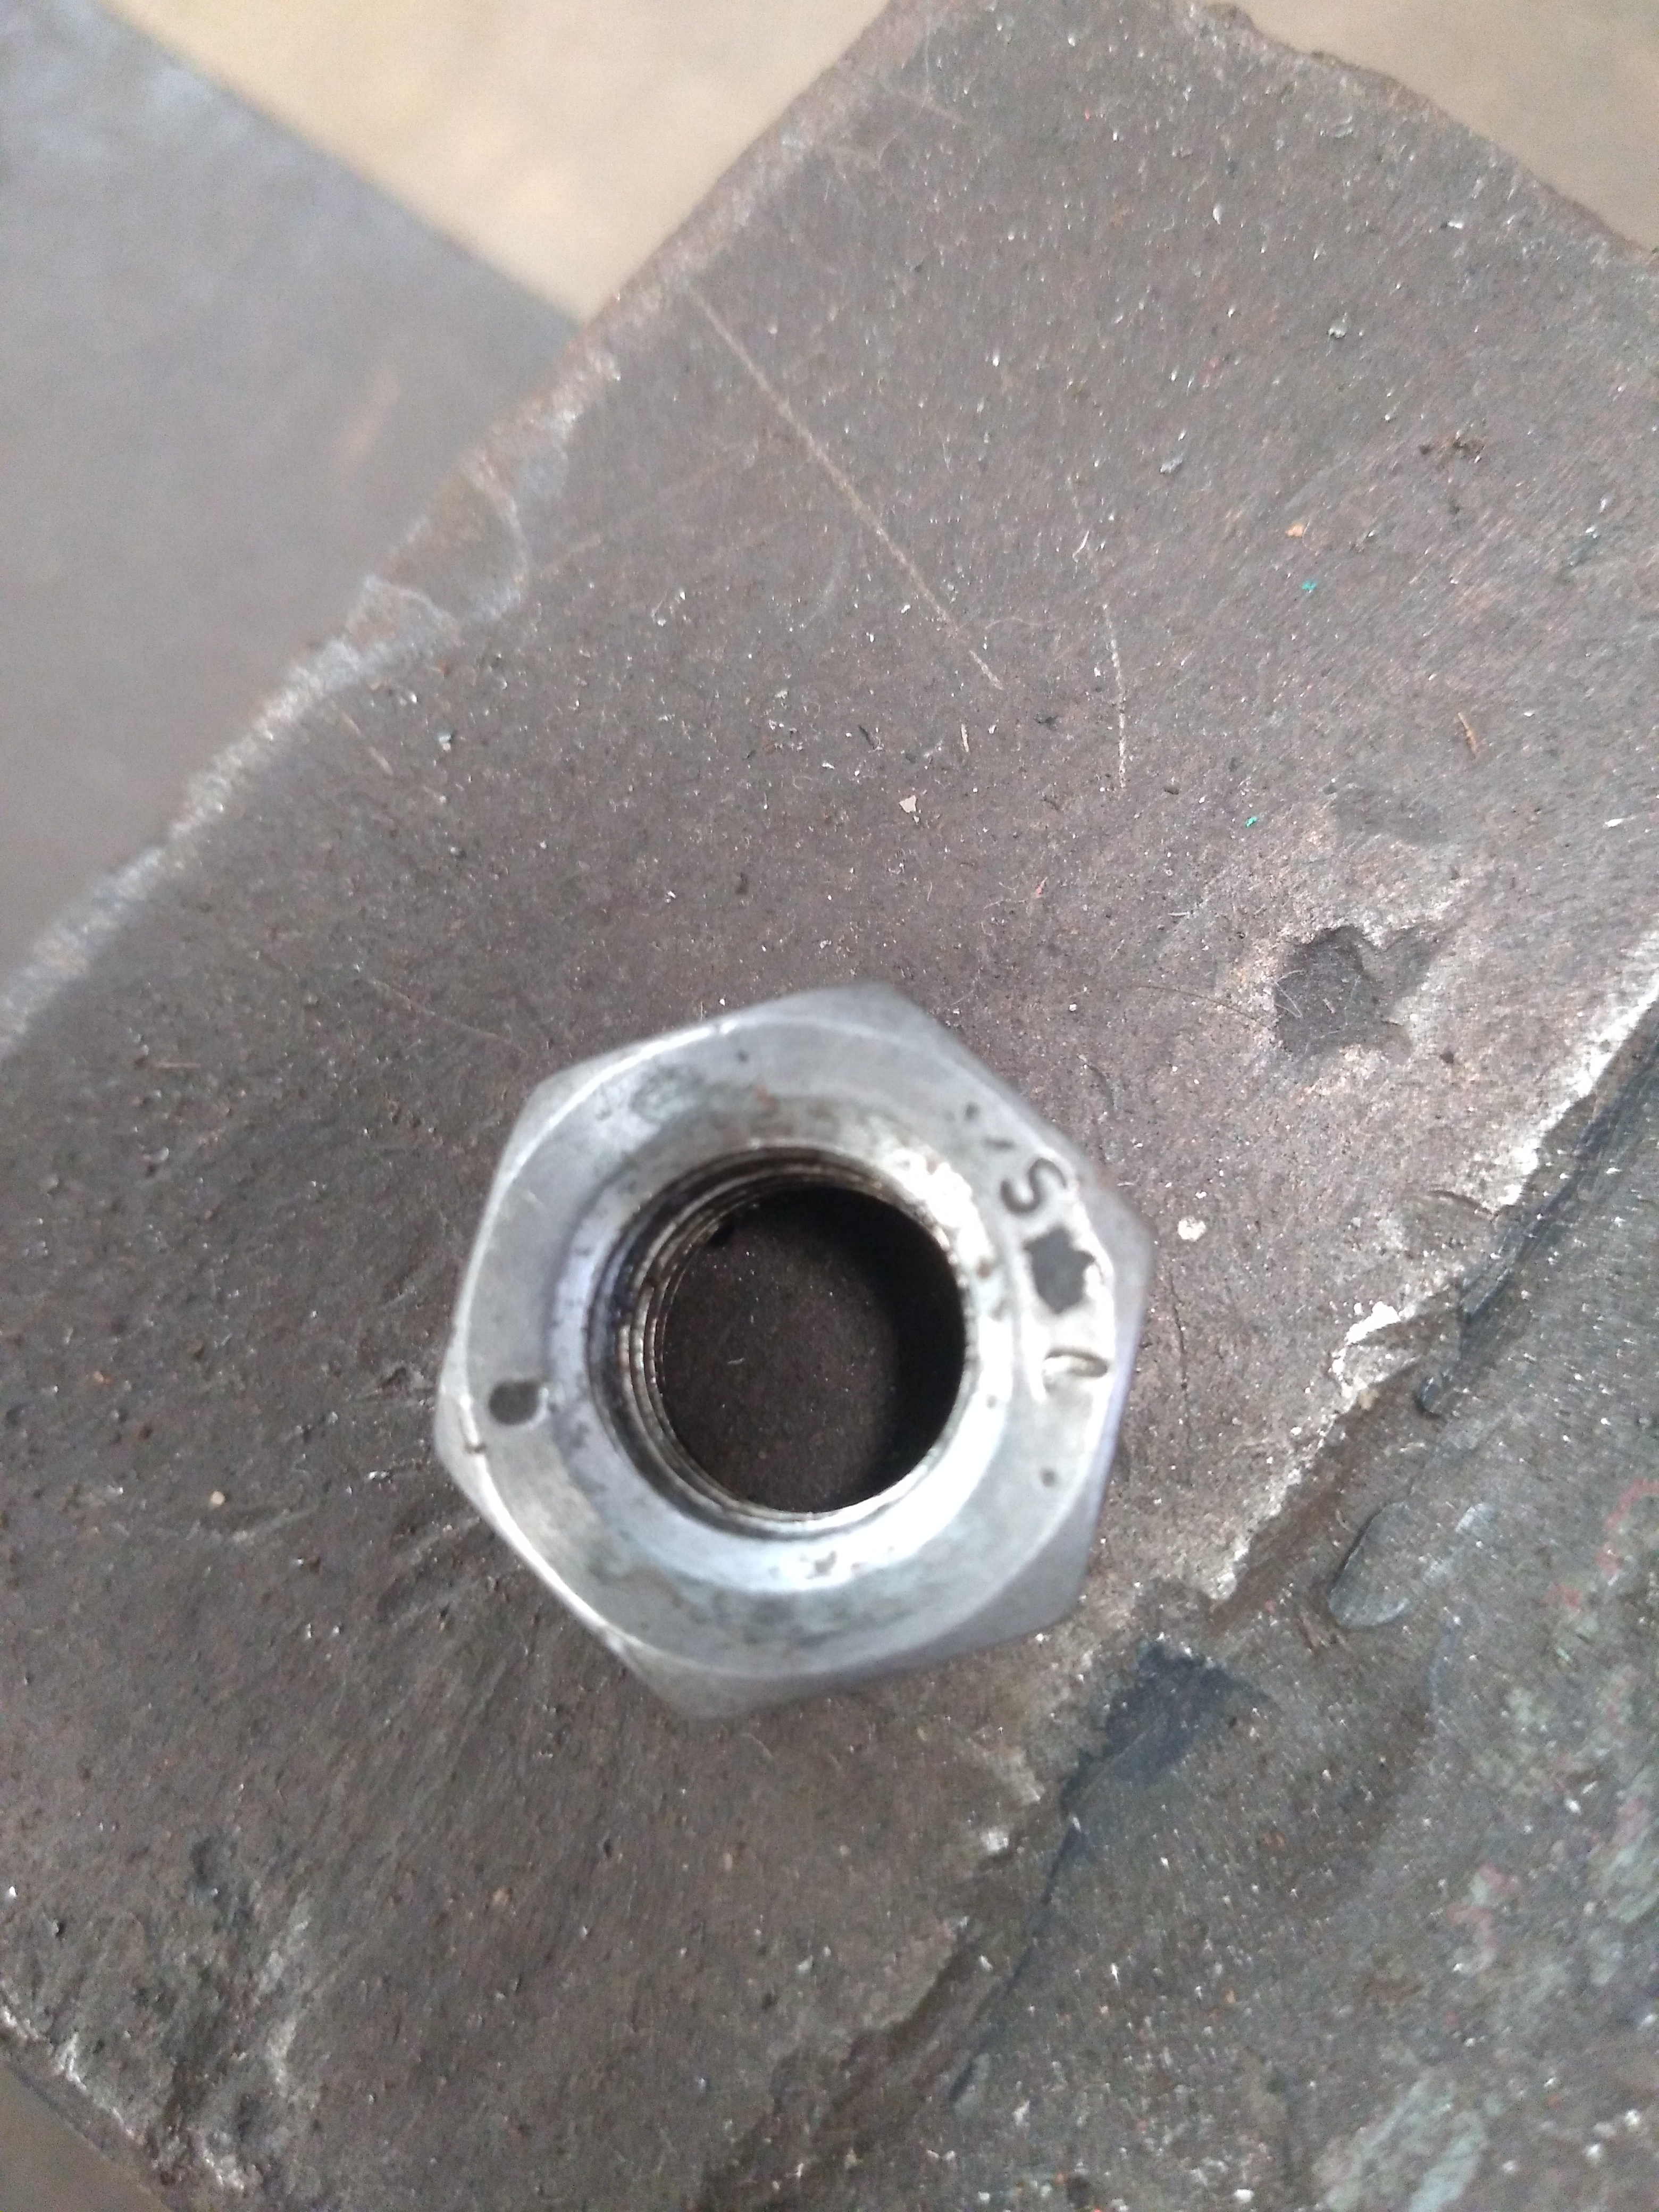Thread: (601, 1096, 1019, 1594)
